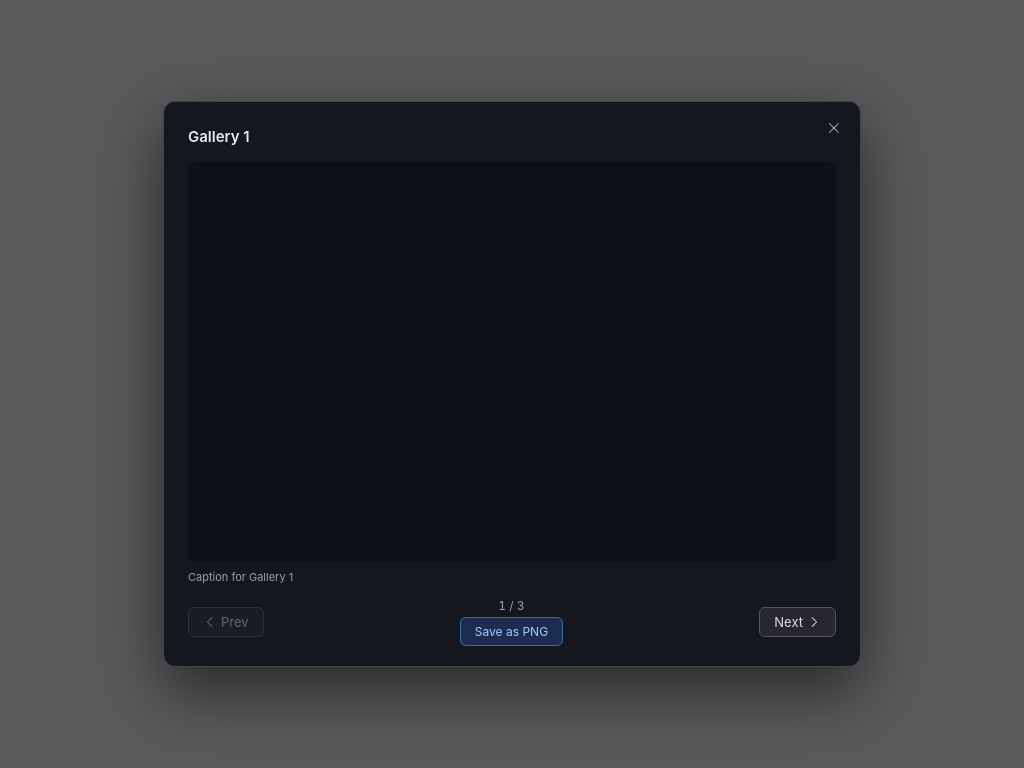
it: ChartGallery — open / nav / close › Next button advances to chart 2
The image size is (1024, 768).
What coordinates should you click on to do the following:
click the button with test id "chart-gallery-next"
I would click on:
 (798, 622)
Its box is 759,607 -> 836,637.
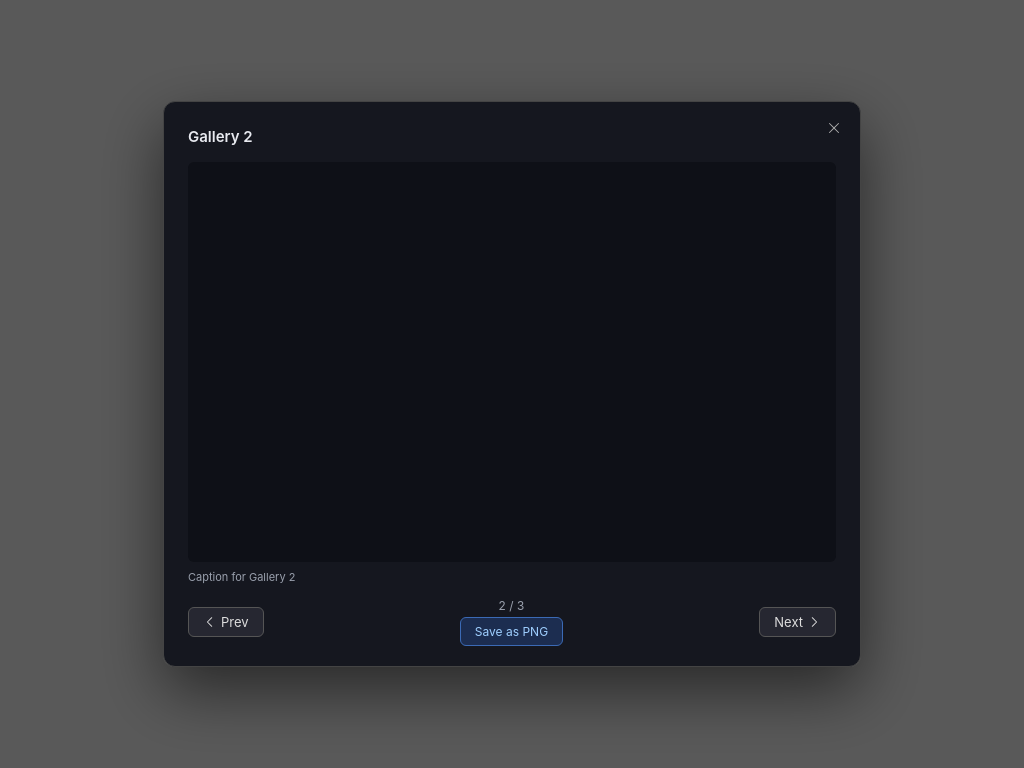
Expected: the heading with test id "chart-gallery-title" reads "Gallery 2", 188,126 -> 253,146
Expected: the text with test id "chart-gallery-counter" reads "2 / 3", 498,598 -> 525,613
